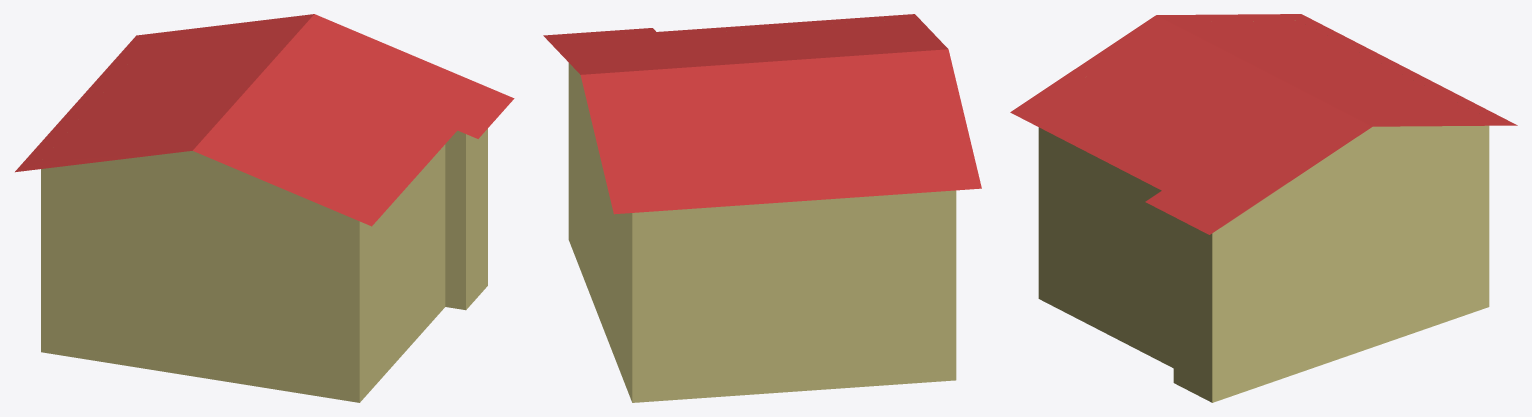
3 renders of one model, left to right at view 1: azimuth 30°, elevation 25°; view 2: azimuth 150°, elevation 25°; view 3: azimuth 270°, elevation 25°, orthographic. The views are drawn at different scales.
Bounding box in the file's own units: 18.95 × 18.62 × 9.38.
